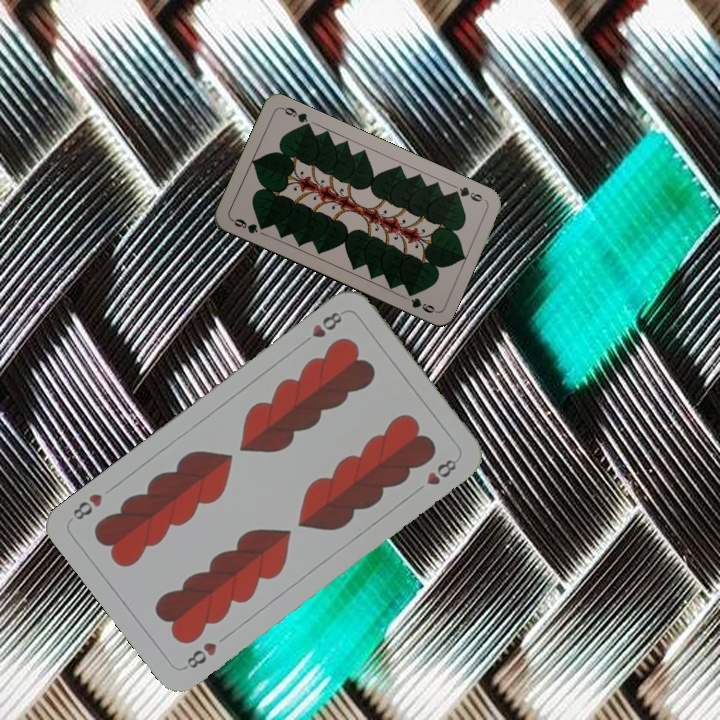G9: (228, 214, 269, 236), (448, 183, 488, 204)
H8: (297, 307, 345, 348), (179, 638, 220, 672)
